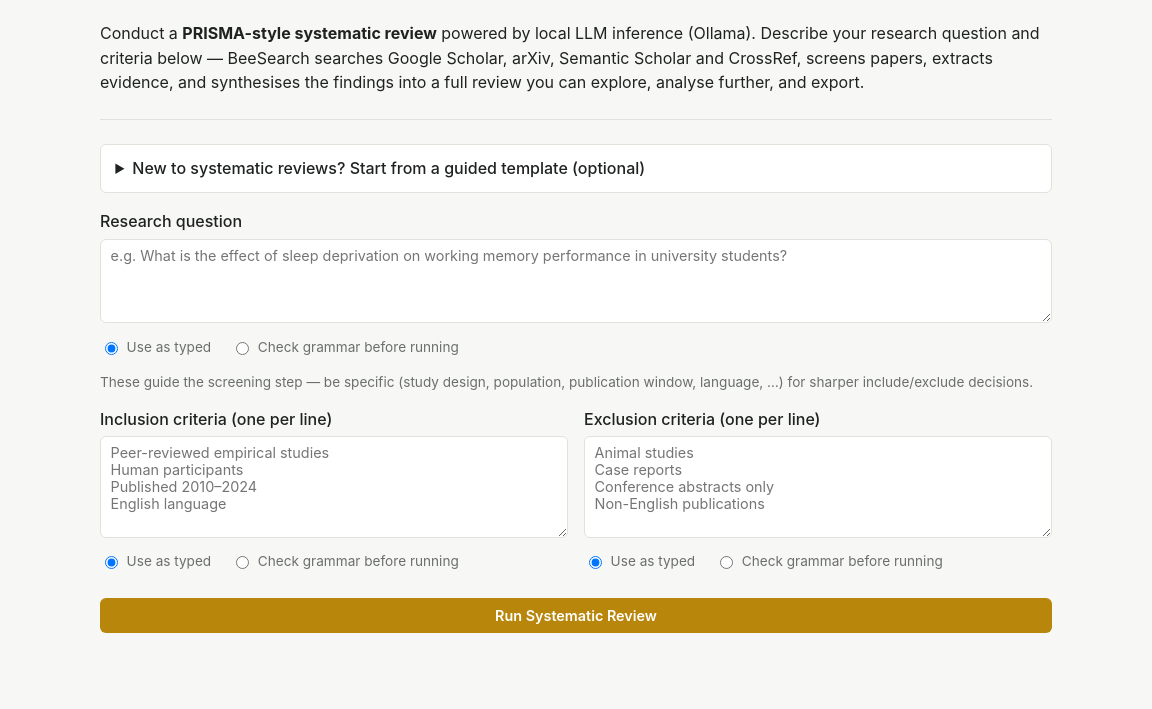
Test case: SystematicReviewPage › clears a stale validation warning as soon as the user types
(page scrolled)
Click the button "Run Systematic Review" at (576, 616), box [100,598,1052,633]
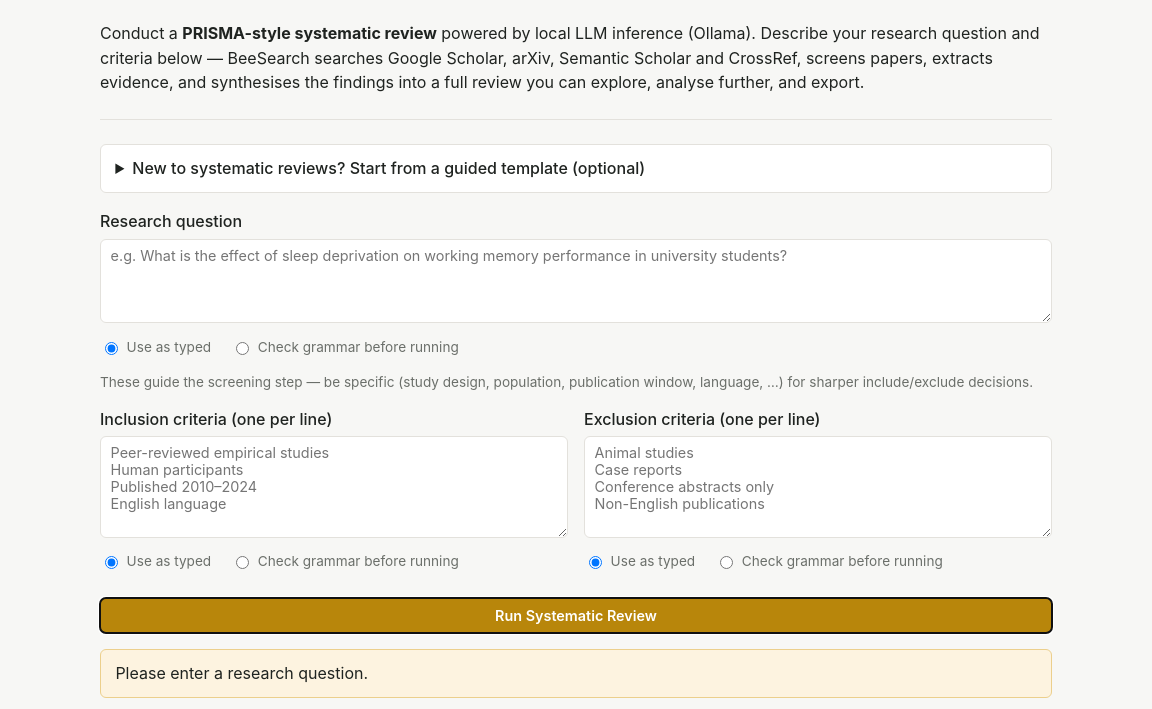
Expected: the text "Please enter a research question." is shown, [100,649,1052,698]
Type "a" into the text box labelled "Research question" at (576, 281), box [100,239,1052,323]
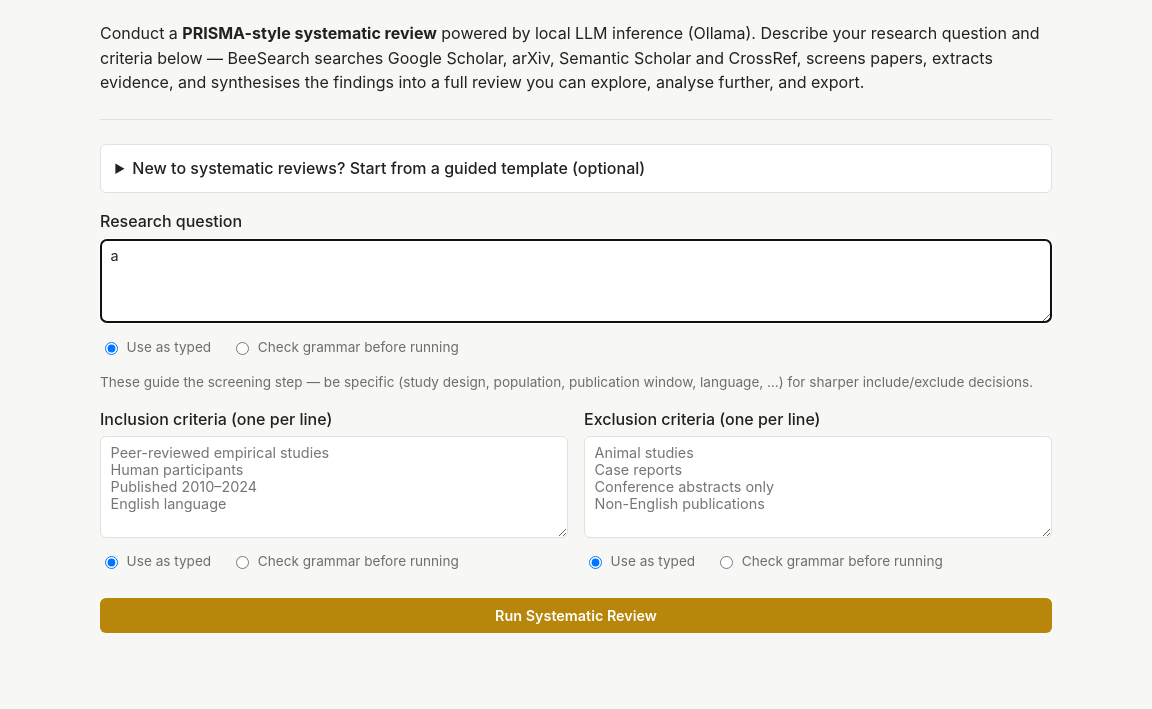
Expected: the text "Please enter a research question." is gone
